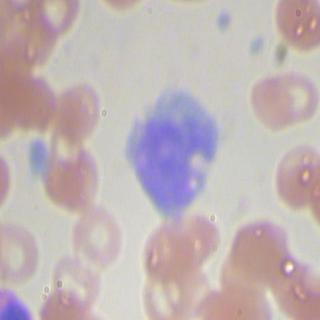Platelets: (244, 30, 267, 56), (214, 6, 236, 32), (24, 136, 46, 162)
RBC: (127, 214, 190, 290), (166, 208, 228, 284), (39, 140, 106, 210), (52, 72, 119, 142), (231, 68, 298, 138), (264, 136, 320, 212), (232, 208, 287, 284), (70, 204, 124, 276), (48, 240, 102, 312), (6, 70, 61, 138), (132, 260, 193, 320), (263, 62, 320, 126), (0, 214, 44, 286), (269, 0, 319, 56)
WBC: (121, 78, 228, 220)
